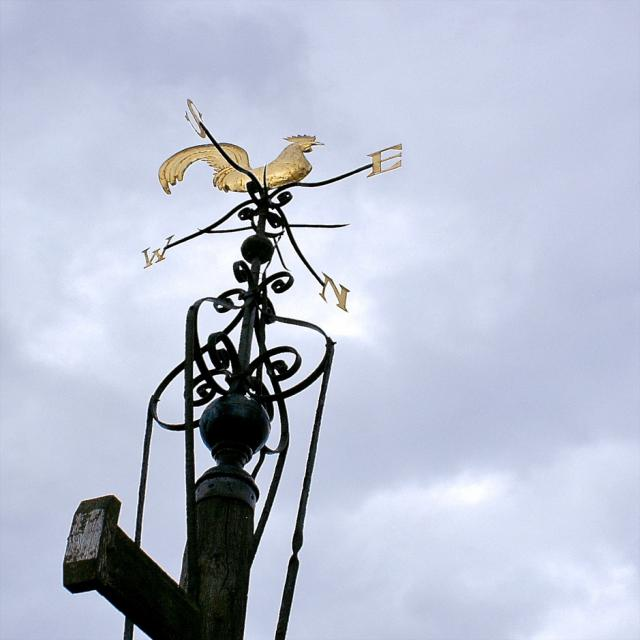Chicken: (156, 123, 327, 191)
